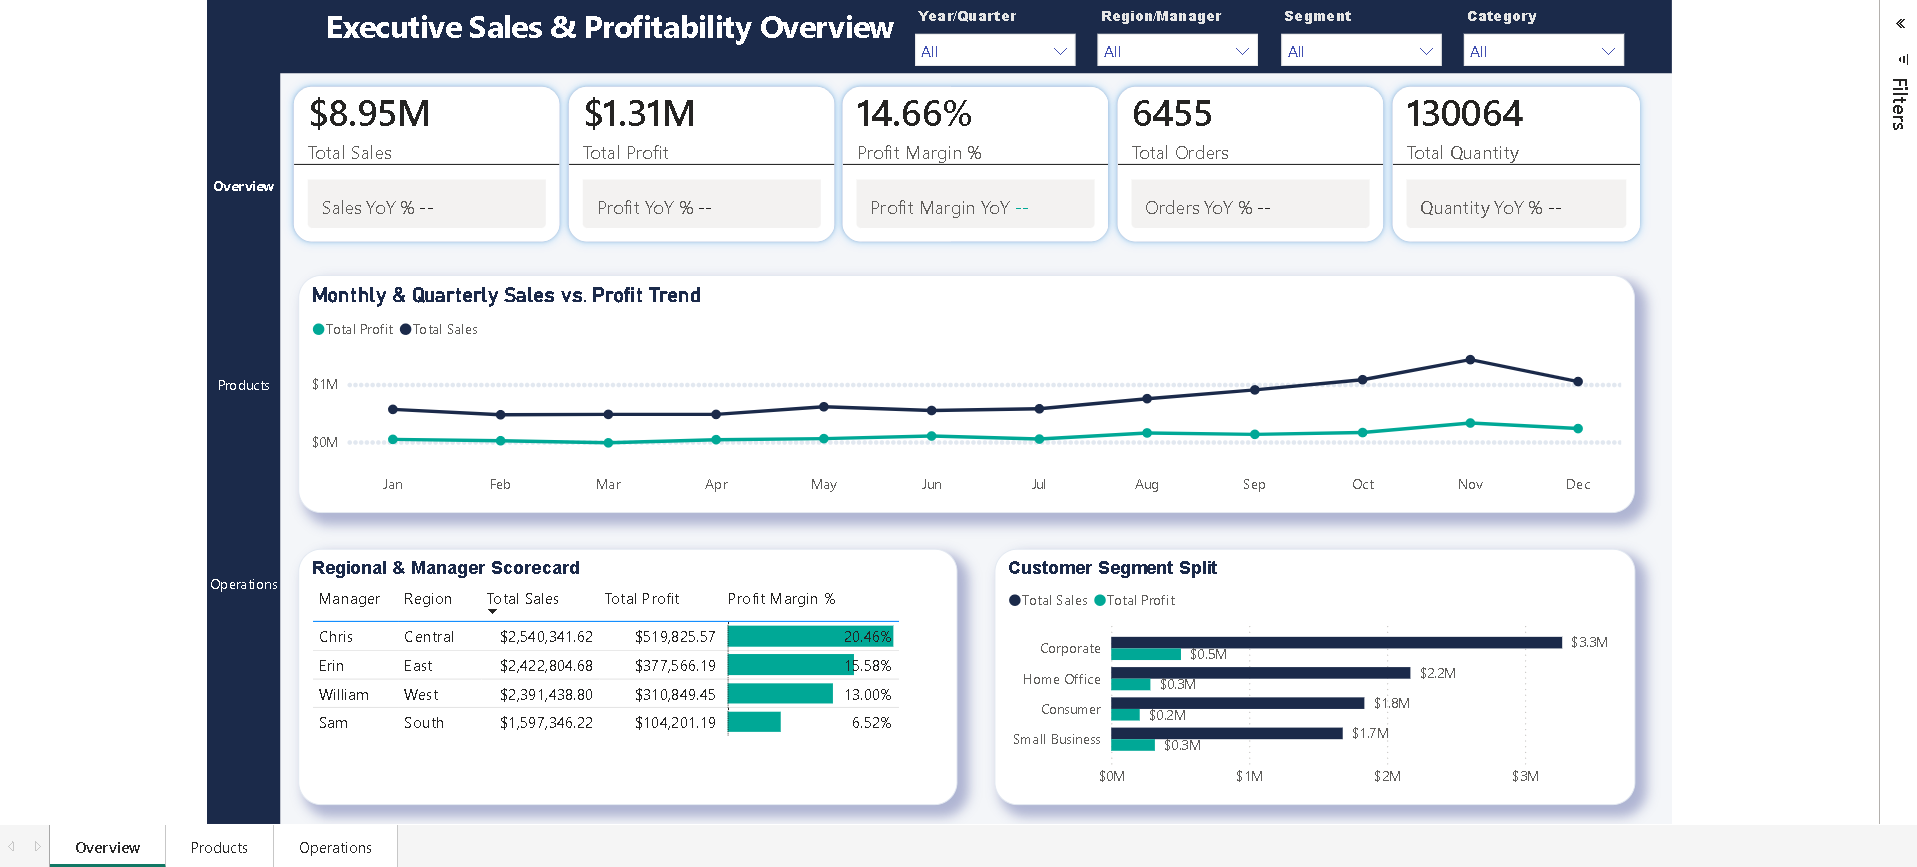

The dashboard page shown, as its layout file describes it:
{"tool":"powerbi","page":{"name":"Overview","canvas":[1280,720],"ordinal":0},"visuals":[{"type":"shape","box":[0,0,64,720],"z":0},{"type":"shape","box":[0,0,1280,64],"z":1000},{"type":"pageNavigator","box":[0,80,64,512],"z":2000},{"type":"textbox","box":[64,0,536,80],"z":3000},{"type":"textbox","box":[0,0,704,48],"z":4000},{"type":"slicer","fields":{"Values":["DateTable.Year","DateTable.Quarter"]},"box":[608,0,160,64],"z":5000},{"type":"slicer","fields":{"Values":["Users.Manager","Users.Region"]},"box":[768,0,160,64],"z":6000},{"type":"slicer","fields":{"Values":["Orders.Customer Segment"]},"box":[928,0,160,64],"z":7000},{"type":"slicer","fields":{"Values":["Orders.Product Category"]},"box":[1088,0,160,64],"z":8000},{"type":"cardVisual","title":"Sales","fields":{"Data":["_Key Measures (2).Total Sales"]},"box":[48,48,288,192],"z":9000},{"type":"cardVisual","title":"Sales","fields":{"Data":["_Key Measures (2).Total Profit"]},"box":[288,48,288,192],"z":10000},{"type":"cardVisual","title":"Sales","fields":{"Data":["_Key Measures (2).Profit Margin %"]},"box":[528,48,288,192],"z":11000},{"type":"cardVisual","title":"Sales","fields":{"Data":["_Key Measures (2).Total Orders"]},"box":[768,48,288,192],"z":12000},{"type":"cardVisual","title":"Sales","fields":{"Data":["_Key Measures (2).Total Quantity"]},"box":[1008,48,272,192],"z":13000},{"type":"lineChart","title":"Monthly & Quarterly Sales vs. Profit Trend","fields":{"Category":["DateTable.Quarter","DateTable.Month Short"],"Y":["_Key Measures (2).Total Profit","_Key Measures (2).Total Sales"]},"box":[80,240,1168,208],"z":14000},{"type":"tableEx","title":"Regional & Manager Scorecard","fields":{"Values":["Users.Manager","Users.Region","_Key Measures (2).Total Sales","_Key Measures (2).Total Profit","_Key Measures (2).Profit Margin %"]},"box":[80,480,576,224],"z":15000},{"type":"clusteredBarChart","title":"Customer Segment Split","fields":{"Y":["_Key Measures (2).Total Sales","_Key Measures (2).Total Profit"],"Category":["Orders.Customer Segment"]},"box":[688,480,560,224],"z":16000}]}

Visuals, with their boxes on the page's 1280x720 design canvas (x1, y1, x2, y2). These are canvas units, not pixel positions in the 1917x867 screenshot, which may show the page scaled, cropped or inside an application window:
shape: [0,0,64,720]
shape: [0,0,1280,64]
pageNavigator: [0,80,64,592]
textbox: [64,0,600,80]
textbox: [0,0,704,48]
slicer - DateTable.Year x DateTable.Quarter: [608,0,768,64]
slicer - Users.Manager x Users.Region: [768,0,928,64]
slicer - Orders.Customer Segment: [928,0,1088,64]
slicer - Orders.Product Category: [1088,0,1248,64]
"Sales" cardVisual: [48,48,336,240]
"Sales" cardVisual: [288,48,576,240]
"Sales" cardVisual: [528,48,816,240]
"Sales" cardVisual: [768,48,1056,240]
"Sales" cardVisual: [1008,48,1280,240]
"Monthly & Quarterly Sales vs. Profit Trend" lineChart: [80,240,1248,448]
"Regional & Manager Scorecard" tableEx: [80,480,656,704]
"Customer Segment Split" clusteredBarChart: [688,480,1248,704]
